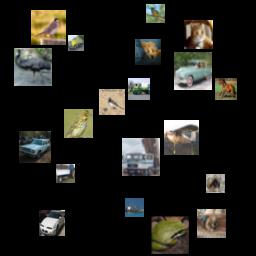airplane: (164, 120, 199, 155)
automobile: (174, 52, 212, 90), (19, 131, 51, 163), (39, 210, 65, 236)
bird: (14, 48, 52, 86), (31, 10, 66, 45), (64, 109, 93, 138), (99, 89, 125, 115), (146, 4, 165, 23)
cat: (184, 20, 213, 49)
dog: (197, 209, 226, 238), (135, 39, 161, 65), (206, 174, 225, 193)
frog: (151, 216, 189, 254)
ship: (125, 198, 144, 217)
truck: (122, 138, 160, 176), (128, 78, 150, 100), (56, 164, 75, 183), (68, 35, 84, 51)
